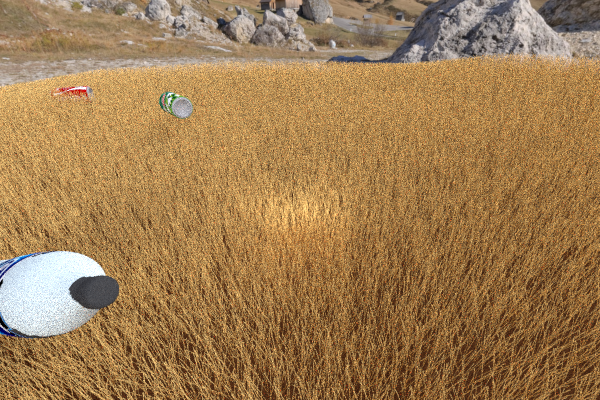Plastic Bottle: (0, 251, 119, 338), (49, 85, 95, 106), (158, 91, 192, 118)
